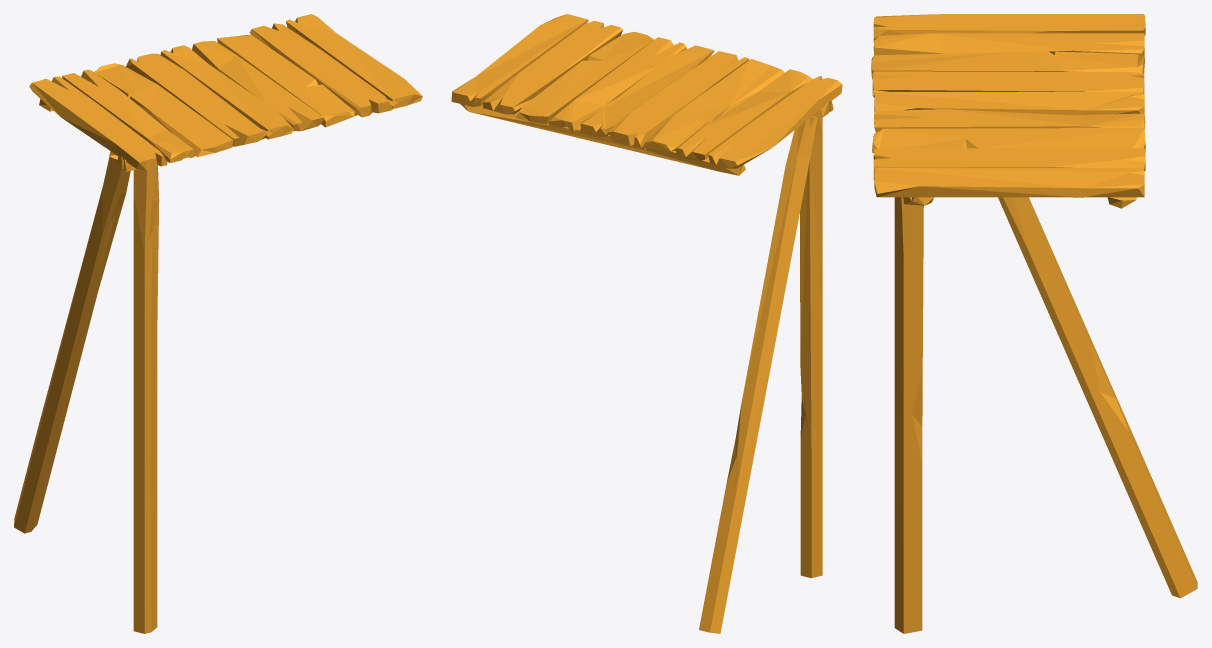
Rendered from SM_Palisade_Gallery_3m.fbx.
The picture shows the model from 3 angles, left to right: view 1: azimuth 30°, elevation 25°; view 2: azimuth 150°, elevation 25°; view 3: azimuth 270°, elevation 25°; orthographic projection. The views are drawn at different scales.
Parts seen in each view (by area): view 1: palisade-gallery-3m; view 2: palisade-gallery-3m; view 3: palisade-gallery-3m.
Boxes of the visible parts, left/top/right/bottom form: palisade-gallery-3m: left=14, top=14, right=422, bottom=633; palisade-gallery-3m: left=451, top=14, right=842, bottom=633; palisade-gallery-3m: left=871, top=14, right=1197, bottom=633.
Bounding box in the file's own units: 3.03 × 4.84 × 2.37.
